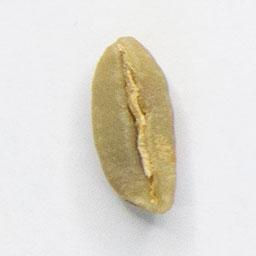longberry: (87, 33, 181, 218)
